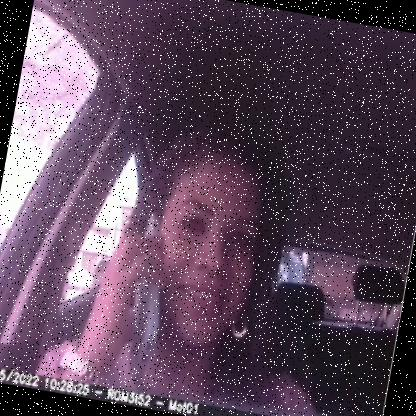phone: (96, 198, 184, 380)
